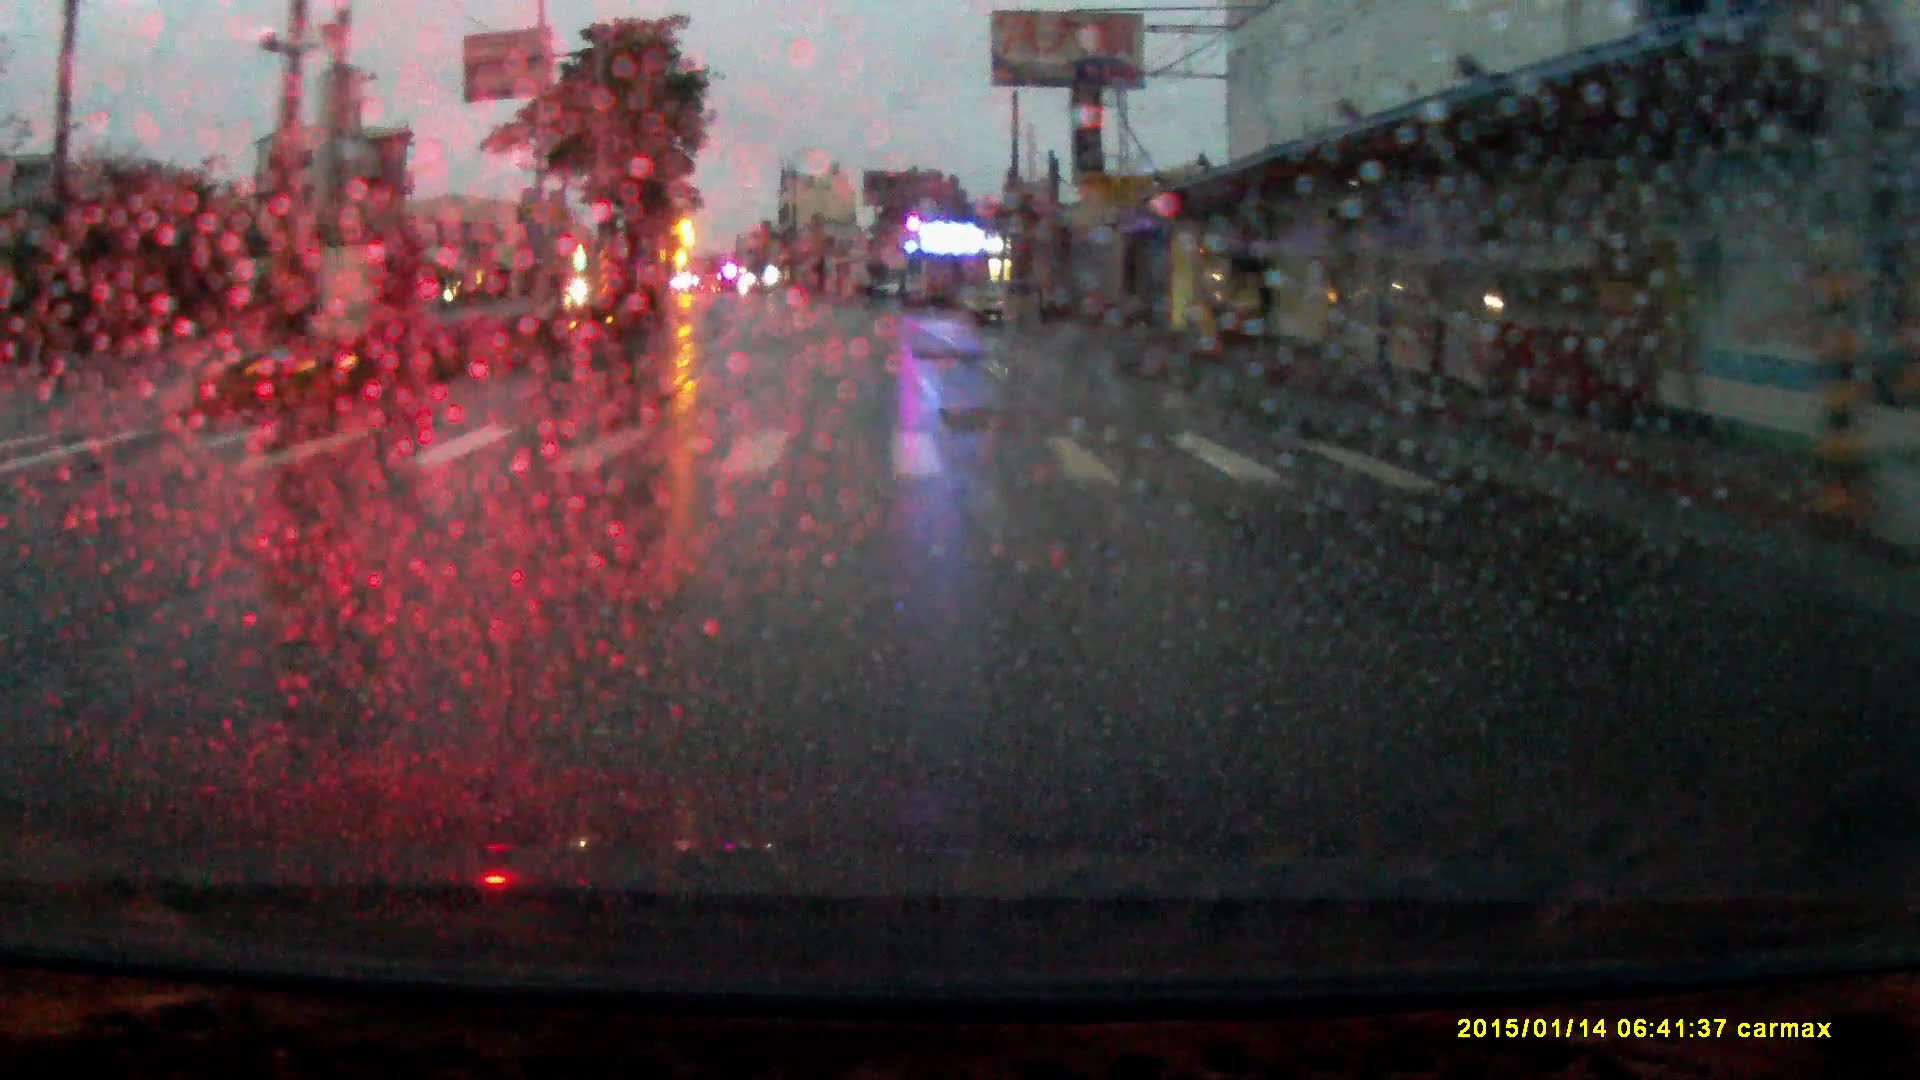vehicle: (963, 282, 1050, 334)
